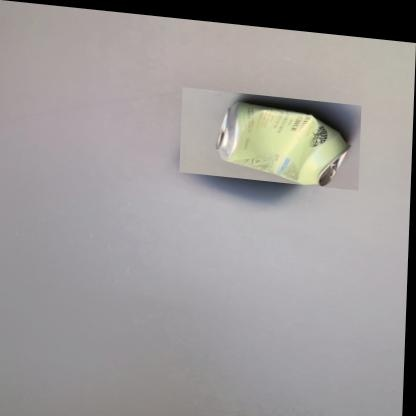trash: (216, 102, 348, 184)
